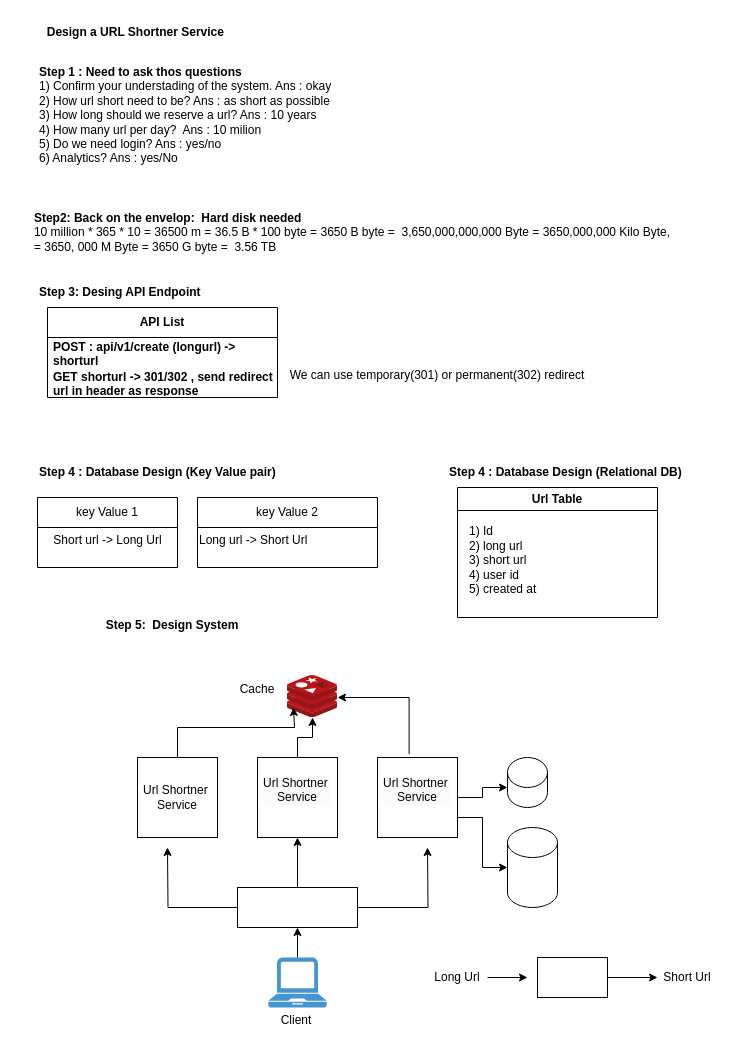
Image size: 744x1059. Some labels were removed from this diagram. Here are the shapes that lost their labels. From the top down, the centre of each, then its label:
the point at 527,782: DB
the point at 532,867: Analytics DB
the point at 297,907: Load Balancer
the point at 572,977: Hash Function
